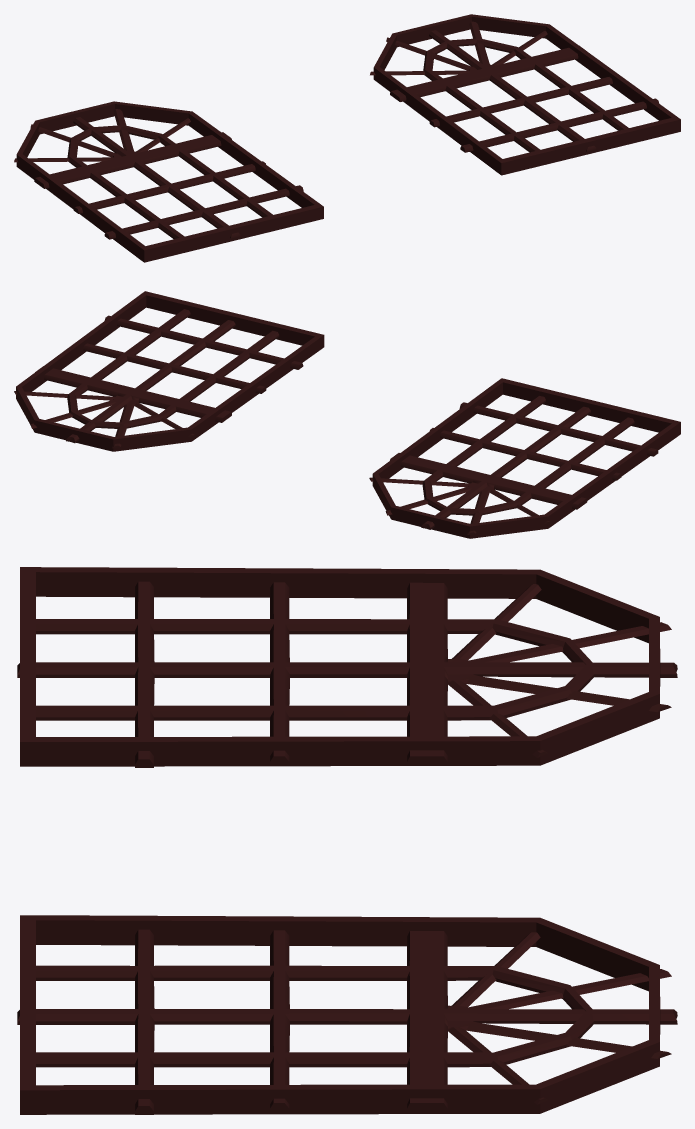
The model's file is P_CadreArrondieSolo.fbx.
The picture shows the model from 3 angles, top to bottom: view 1: azimuth 30°, elevation 25°; view 2: azimuth 150°, elevation 25°; view 3: azimuth 270°, elevation 25°; orthographic projection. The views are drawn at different scales.
Visible parts, largest first — view 1: P_CadreArrondieSolo; view 2: P_CadreArrondieSolo; view 3: P_CadreArrondieSolo.
Part boxes in pixels (box(x1,y1,x2,y2)): P_CadreArrondieSolo: box(14, 14, 680, 262); P_CadreArrondieSolo: box(14, 291, 680, 538); P_CadreArrondieSolo: box(17, 567, 677, 1114).
Size of the model in its own units: 427 by 9.16 by 222.
